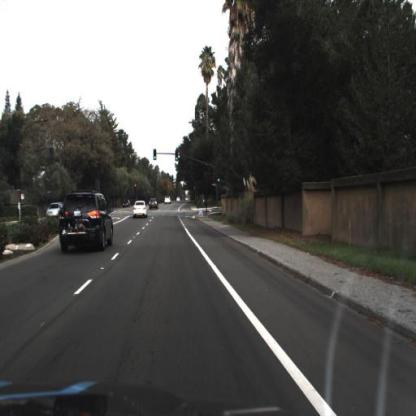car: (59, 188, 115, 254), (46, 200, 64, 221), (134, 198, 150, 221), (147, 196, 160, 212), (165, 197, 172, 206)
trafficLight-Green: (175, 149, 181, 167), (174, 148, 181, 162), (153, 151, 159, 166), (217, 175, 223, 189), (153, 150, 159, 163)
trafficLight-Red: (133, 182, 138, 193)
